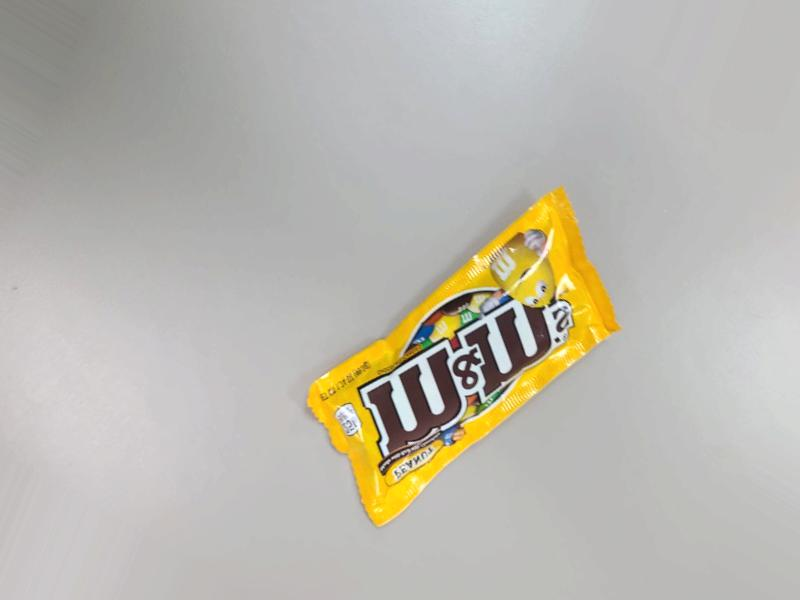m&m: (331, 168, 633, 558)
